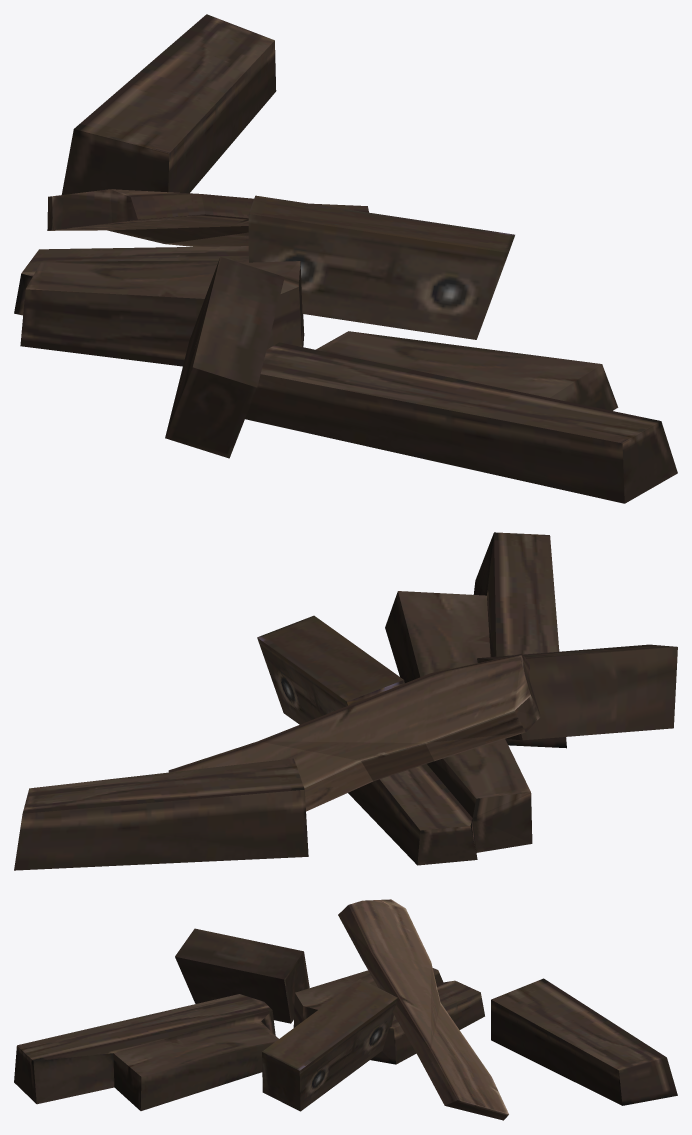
Rendered from bandit_scrap_04.fbx.
3 views of the same model, one above another, from view 1: azimuth 30°, elevation 25°; view 2: azimuth 150°, elevation 25°; view 3: azimuth 270°, elevation 25° (orthographic). The views are drawn at different scales.
Parts seen in each view (by area): view 1: obj0.625; view 2: obj0.625; view 3: obj0.625.
Boxes of the visible parts, x1,y1,x2,y2 form: obj0.625: (14,14,677,503); obj0.625: (14,532,677,870); obj0.625: (14,899,677,1120).
Size of the model in its own units: 1.48 by 0.6817 by 3.1.
